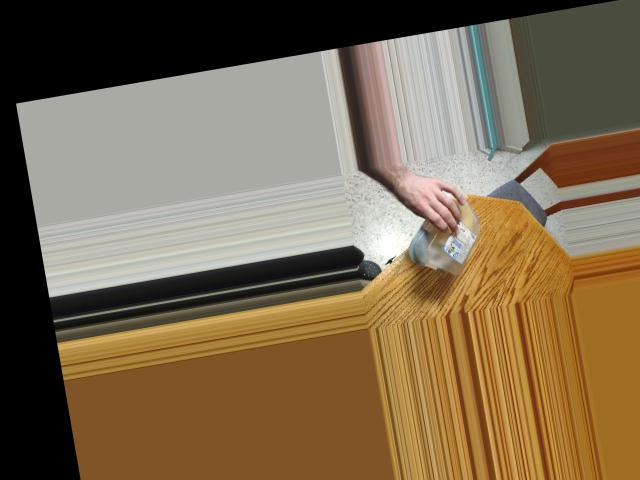cheese: (401, 177, 491, 283)
